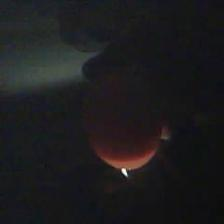fertile: (80, 65, 166, 172)
